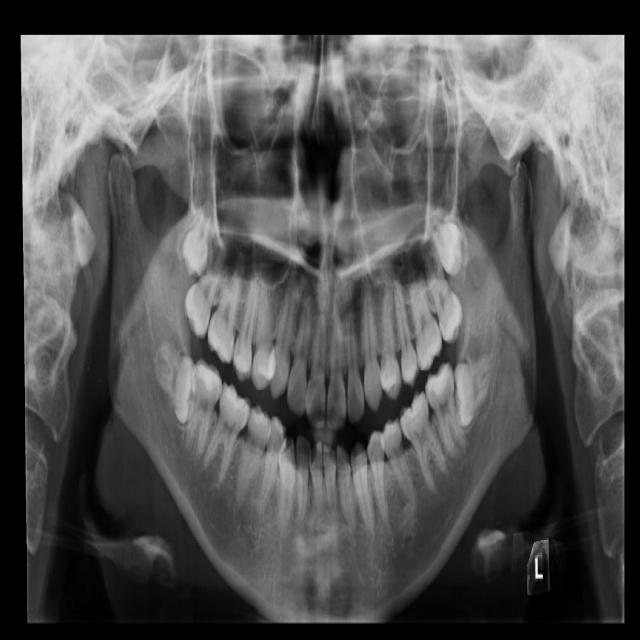impacted tooth: (455, 355, 499, 429), (153, 344, 193, 423), (430, 205, 463, 275), (181, 199, 210, 274)
